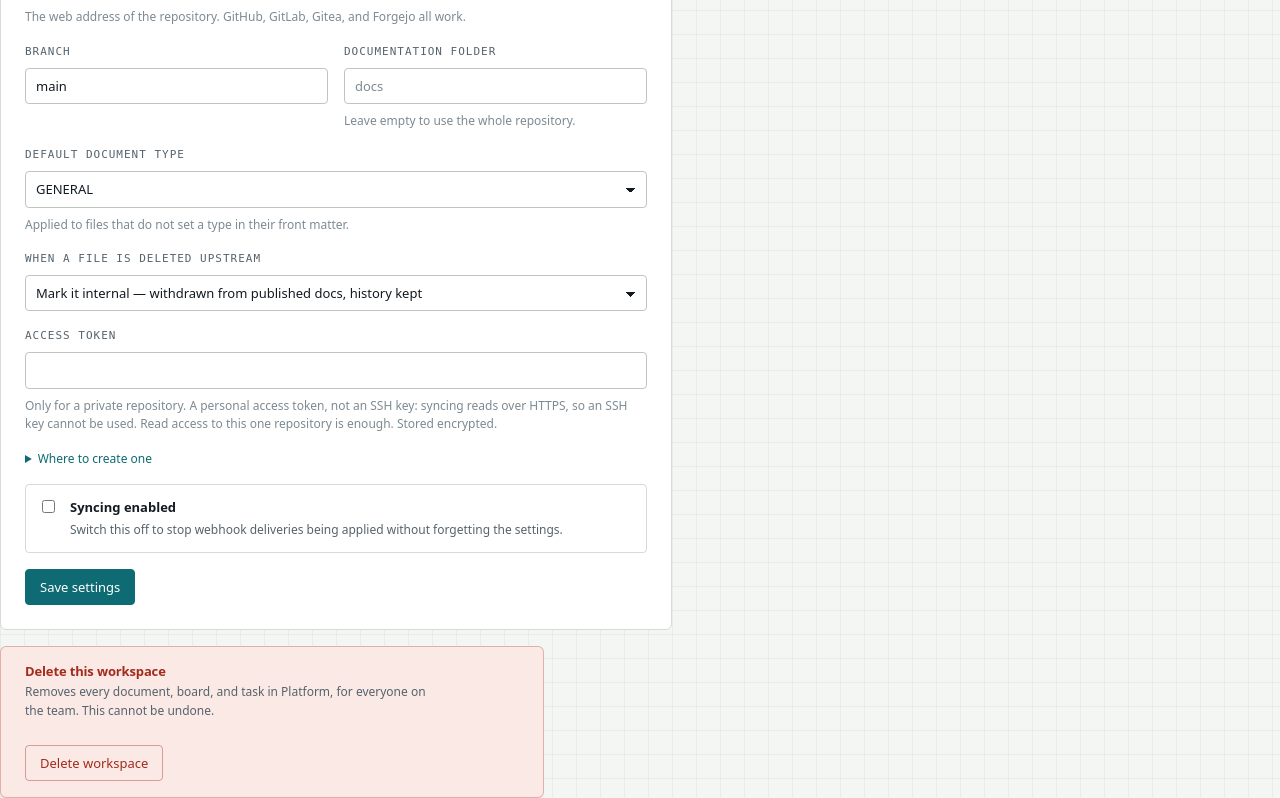
Test: WorkspaceSettingsPage › deletion › requires the workspace name to be typed out
(page scrolled)
Click the button "Delete workspace" at coordinates (94, 763), box [25, 745, 163, 781]
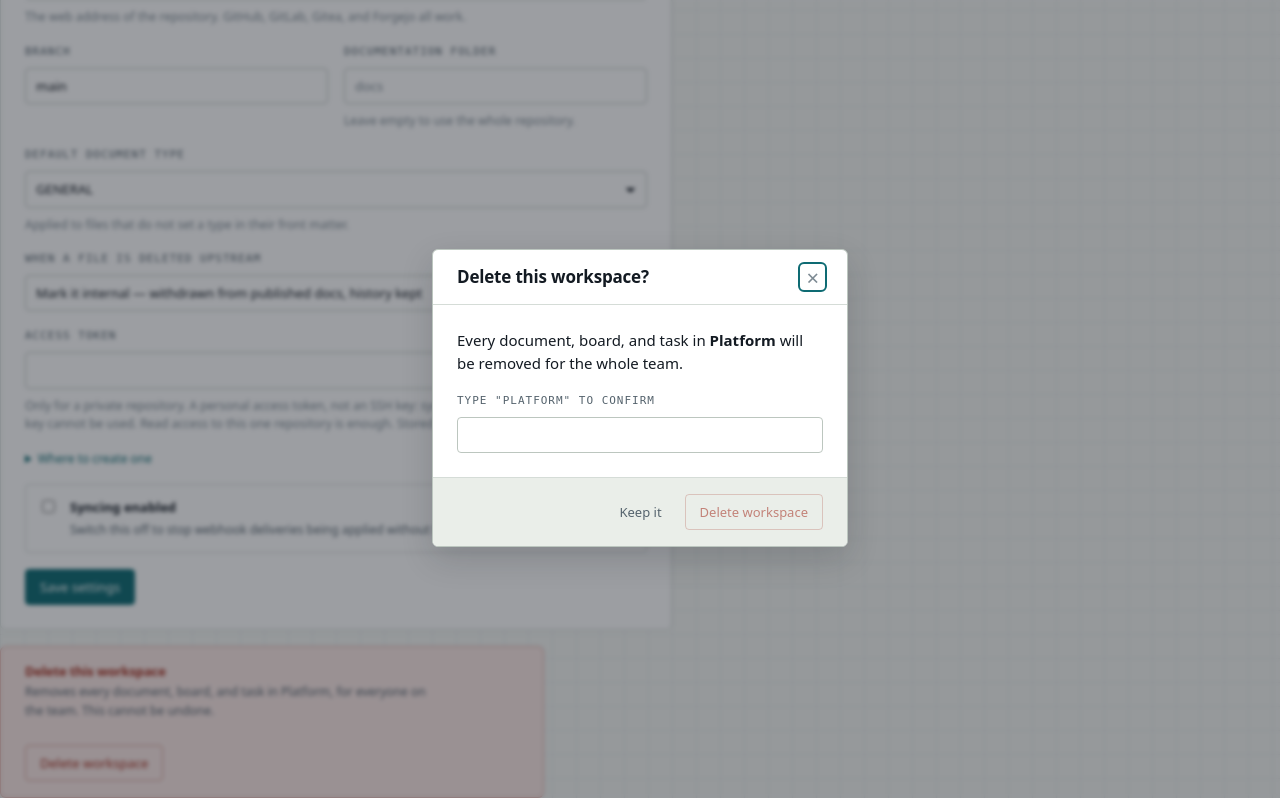
Check: the button "Delete workspace" is disabled, box [685, 494, 823, 530]
Type "Platform" into the field labelled "Type \"Platform\" to confirm" at coordinates (640, 435), box [457, 417, 823, 453]
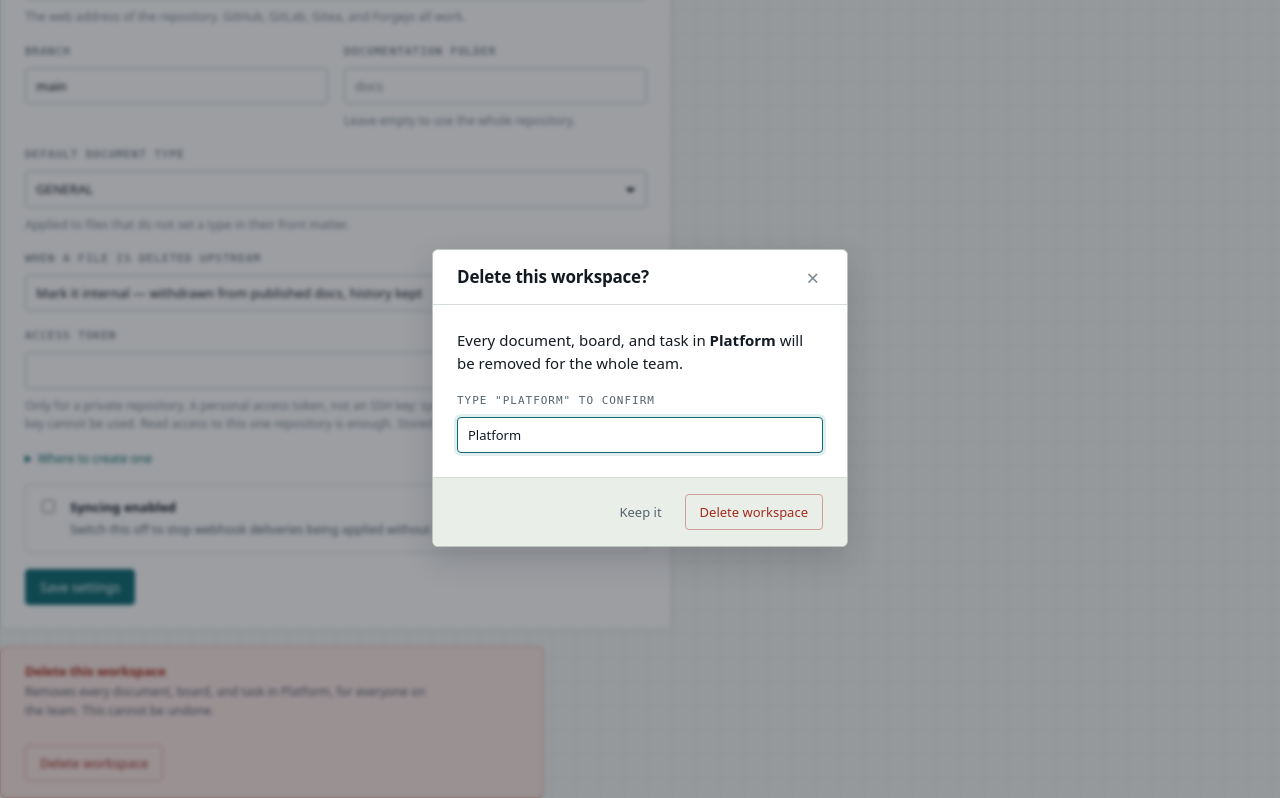
Check: the button "Delete workspace" is enabled, box [685, 494, 823, 530]
